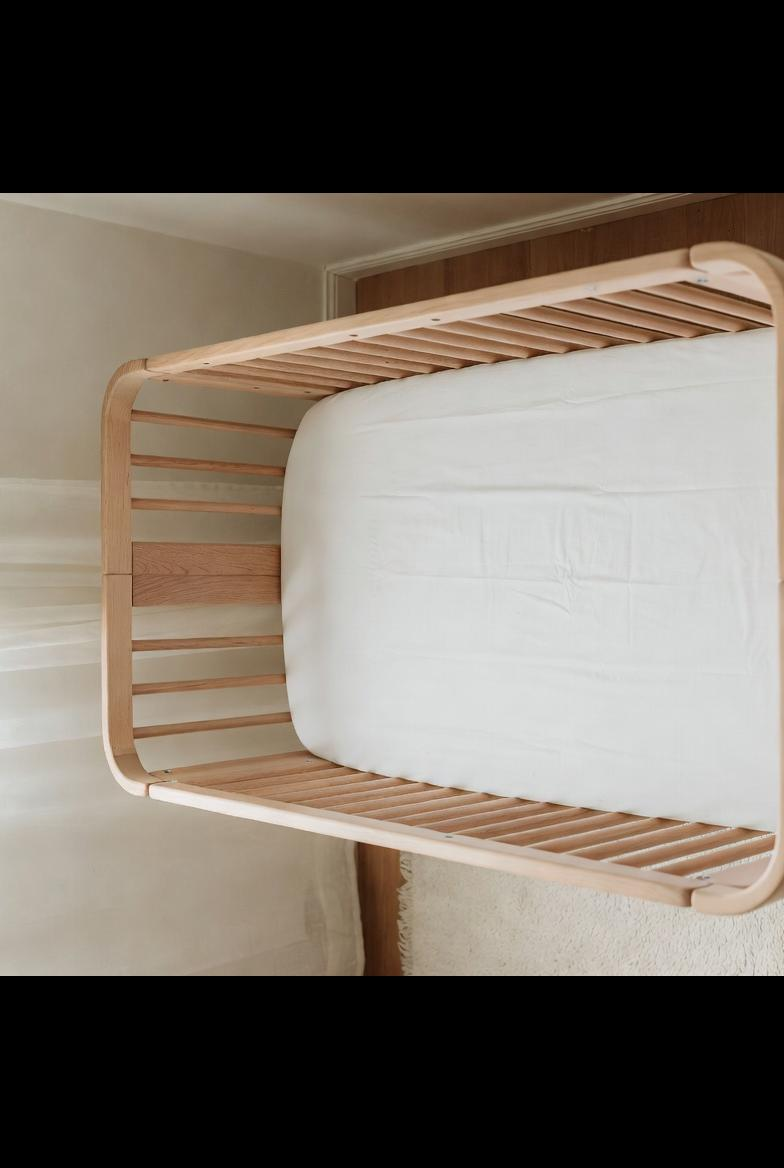crib: (102, 242, 784, 913)
